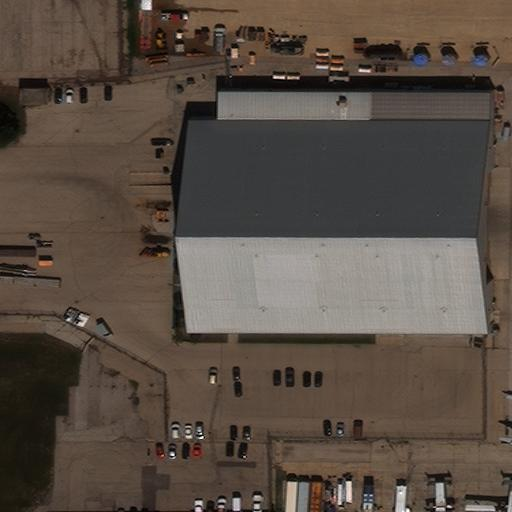Medium Civil Transport: (464, 483, 511, 512)
